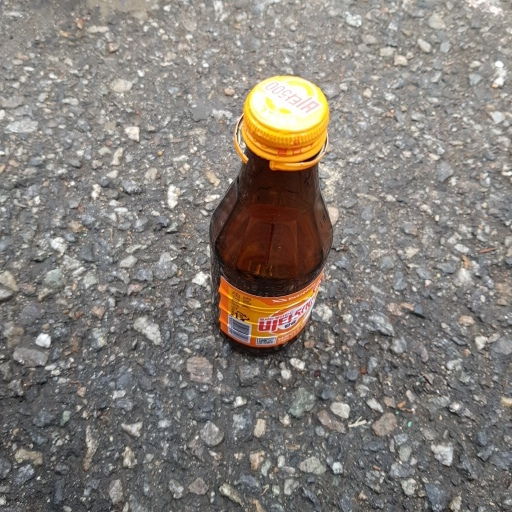Glass_3: (207, 77, 339, 362)
